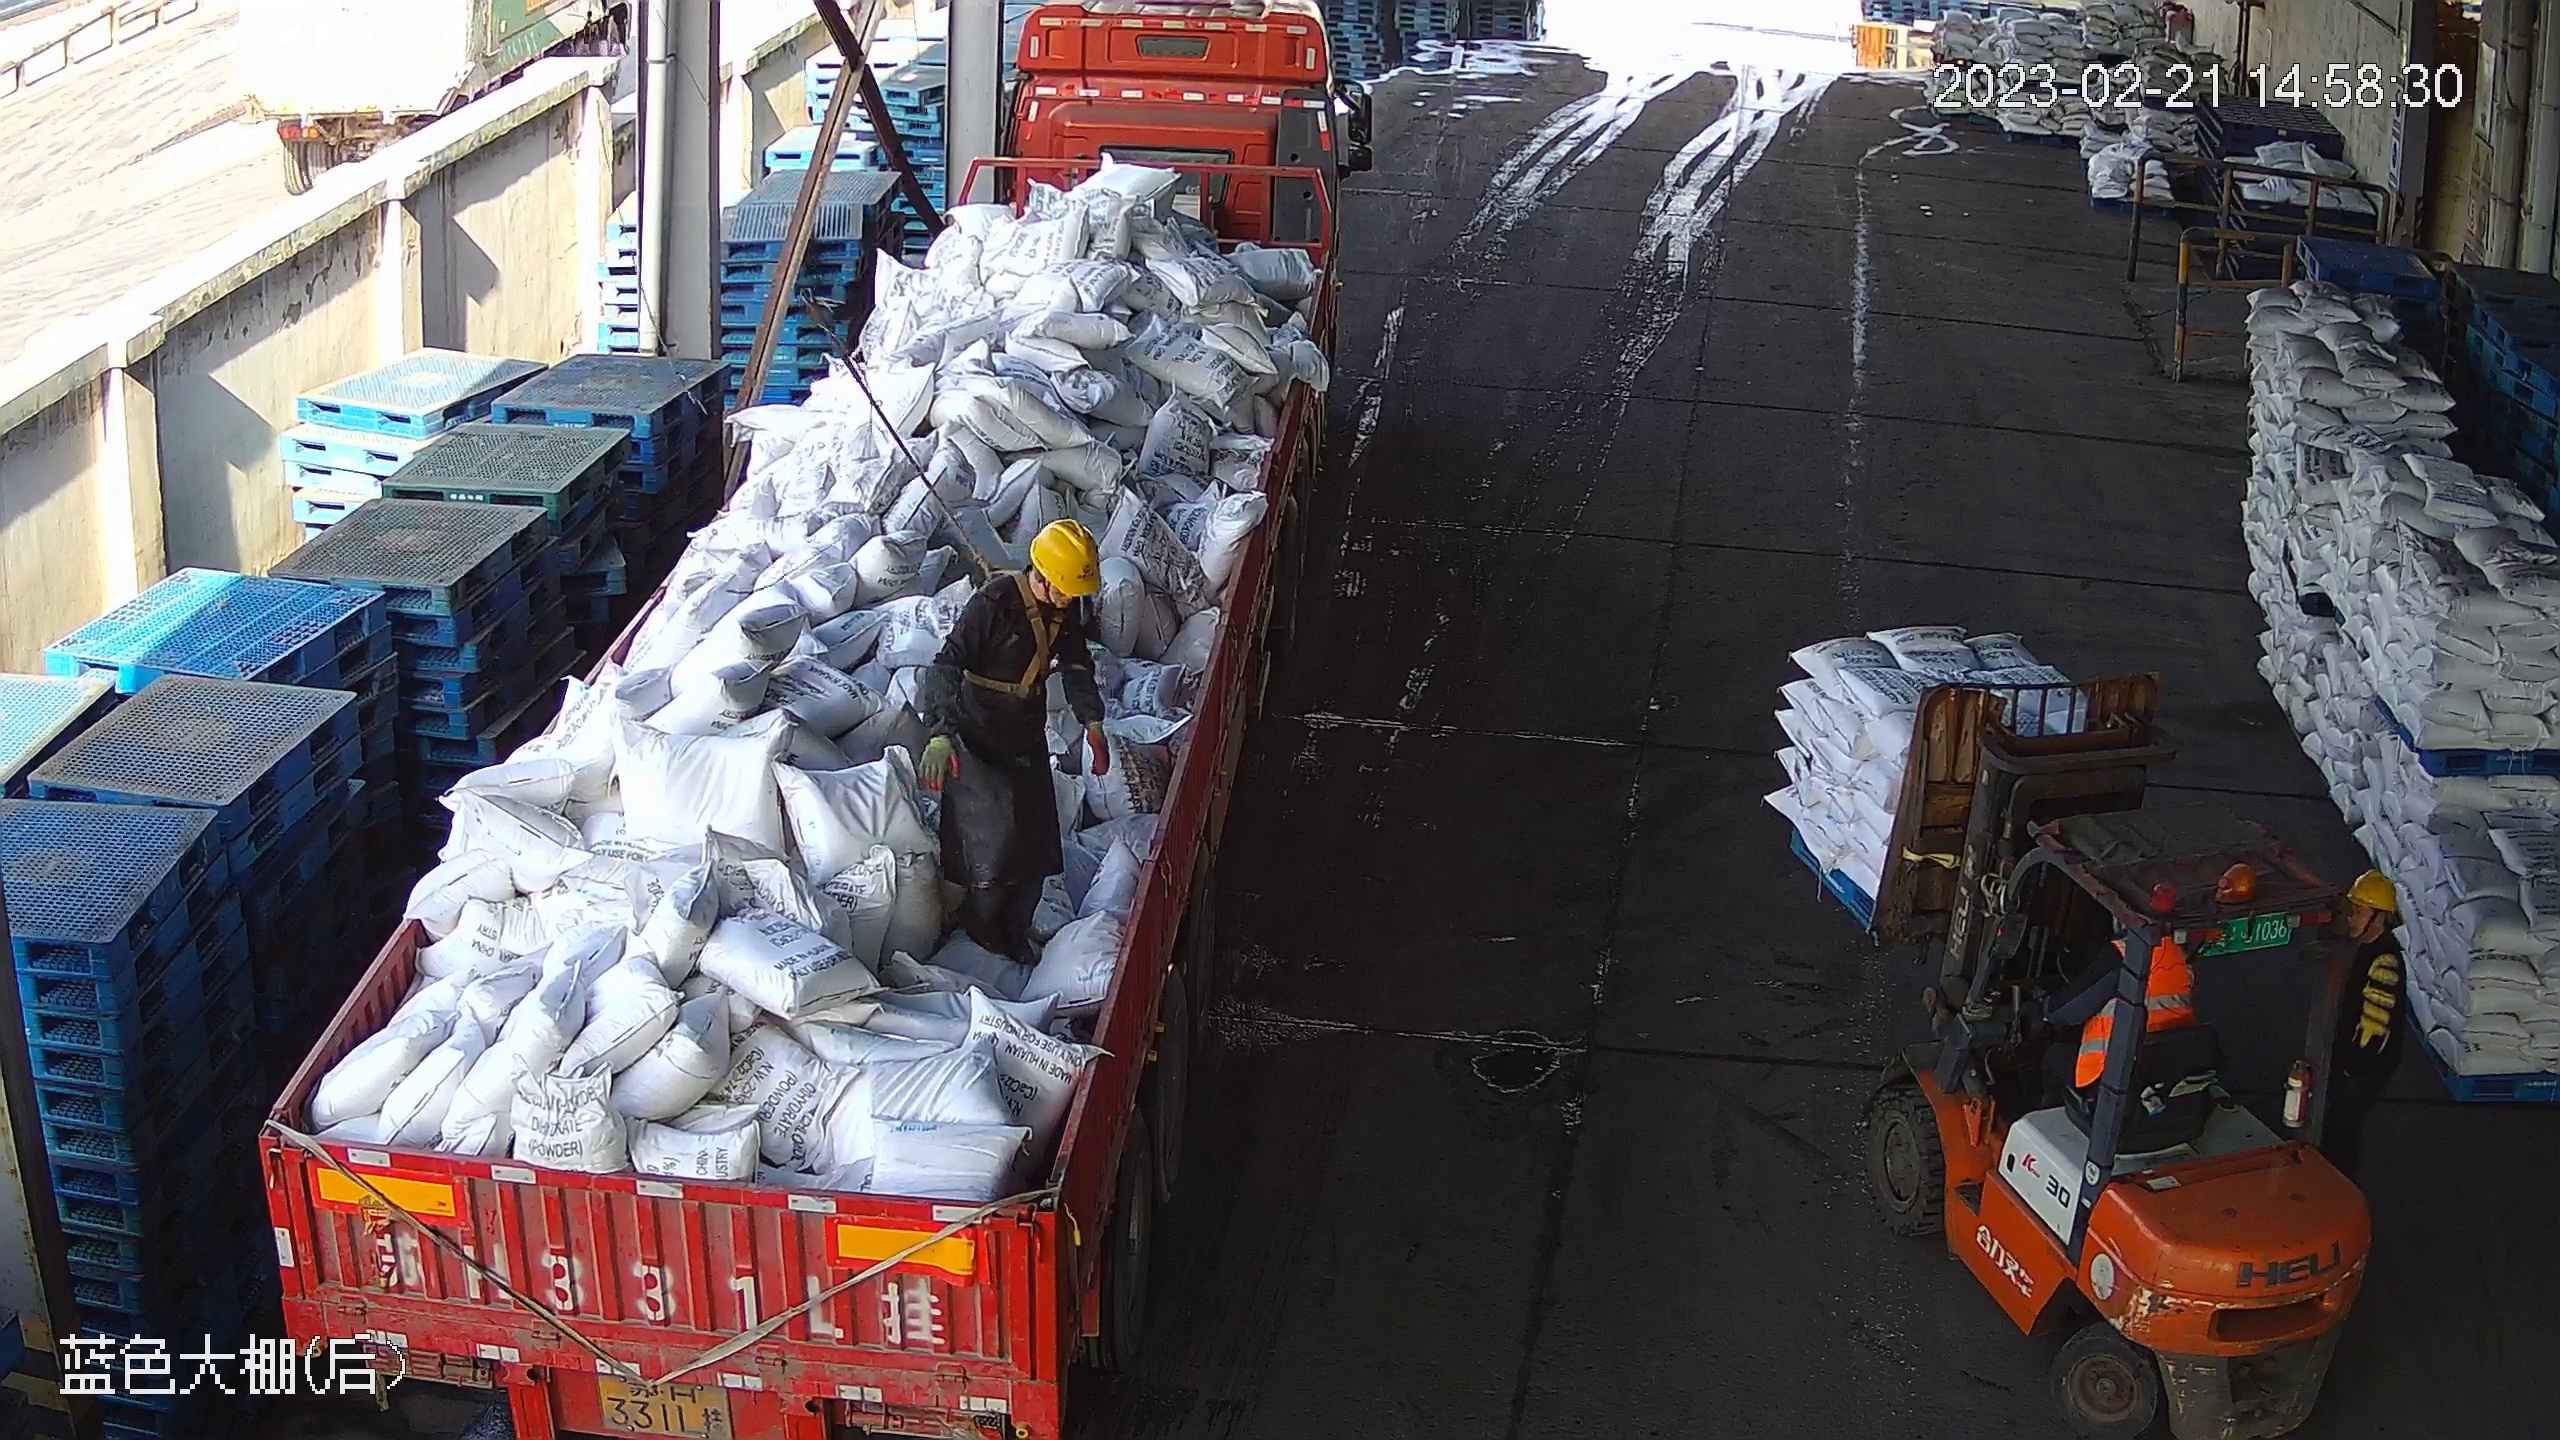belt: (965, 542, 1066, 703)
head: (957, 519, 1103, 654), (2336, 869, 2408, 981)
helmet: (1030, 519, 1103, 597), (2347, 870, 2400, 912)
people: (911, 518, 1106, 969), (2015, 930, 2200, 1105), (2325, 870, 2407, 1166)
truck: (247, 1, 1374, 1432)
